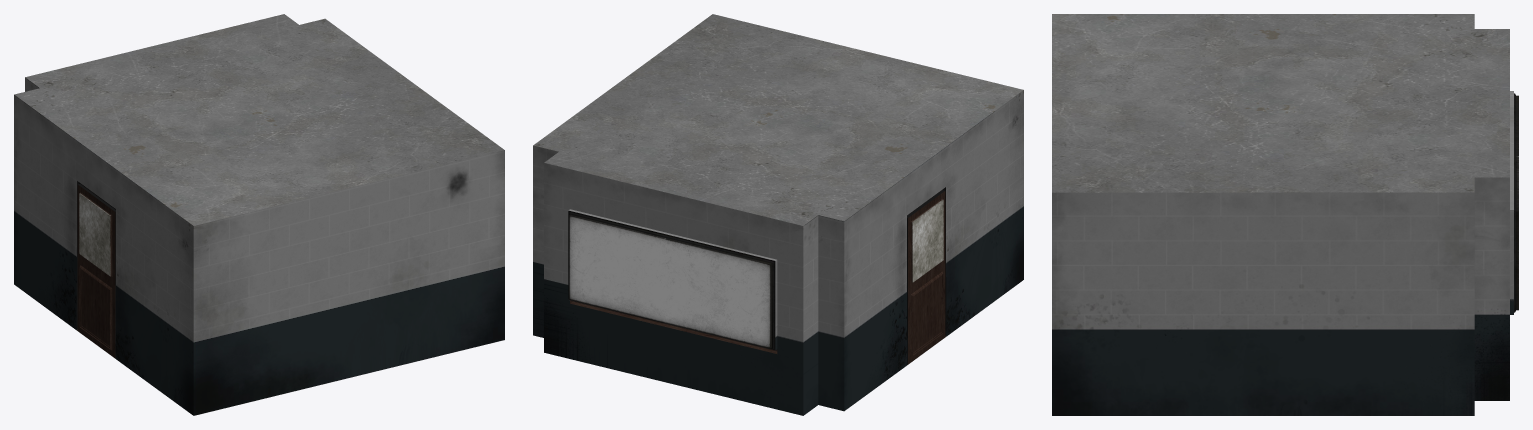
The picture shows the model from 3 angles, left to right: view 1: azimuth 30°, elevation 25°; view 2: azimuth 150°, elevation 25°; view 3: azimuth 270°, elevation 25°; orthographic projection. The views are drawn at different scales.
Visible parts, largest first — view 1: g Walls_and_Light, g Ceiling_and_Skirting, g Door; view 2: g Walls_and_Light, g Ceiling_and_Skirting, g Door; view 3: g Walls_and_Light, g Ceiling_and_Skirting.
Boxes of the visible parts, bbox=[...] form: g Walls_and_Light: bbox=[14, 77, 504, 415]; g Ceiling_and_Skirting: bbox=[14, 14, 504, 329]; g Door: bbox=[76, 181, 115, 358]; g Walls_and_Light: bbox=[533, 90, 1023, 415]; g Ceiling_and_Skirting: bbox=[533, 14, 1023, 225]; g Door: bbox=[907, 187, 946, 364]; g Walls_and_Light: bbox=[1052, 91, 1518, 415]; g Ceiling_and_Skirting: bbox=[1052, 14, 1509, 192].
Size of the model in its own units: 1.82 by 1.06 by 2.
5 materials, 5 textured.
